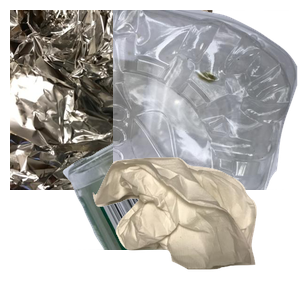glass: (60, 120, 300, 300)
metal: (10, 10, 229, 190)
plastic: (113, 10, 300, 190)
trash: (90, 155, 300, 300)
